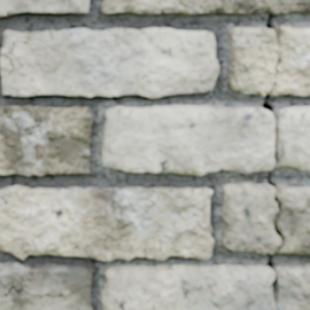brick: (0, 187, 213, 260), (1, 29, 219, 97), (0, 107, 93, 174), (0, 262, 93, 309), (0, 0, 89, 16)
broken_brick: (102, 104, 274, 176), (102, 264, 309, 309), (220, 181, 280, 254), (227, 26, 276, 96), (101, 0, 309, 16), (270, 25, 309, 96), (278, 184, 309, 256), (276, 106, 309, 171), (254, 10, 268, 14)
crack: (251, 2, 307, 307), (0, 40, 29, 78), (186, 247, 212, 254), (105, 267, 111, 274)
